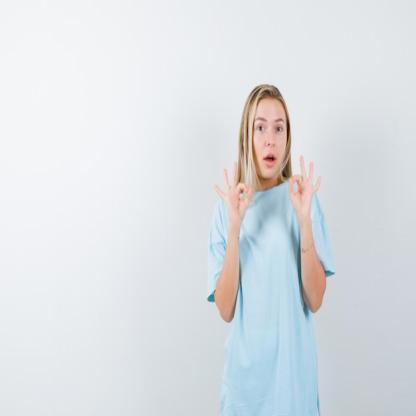ok: (281, 150, 324, 223), (214, 159, 254, 225)
